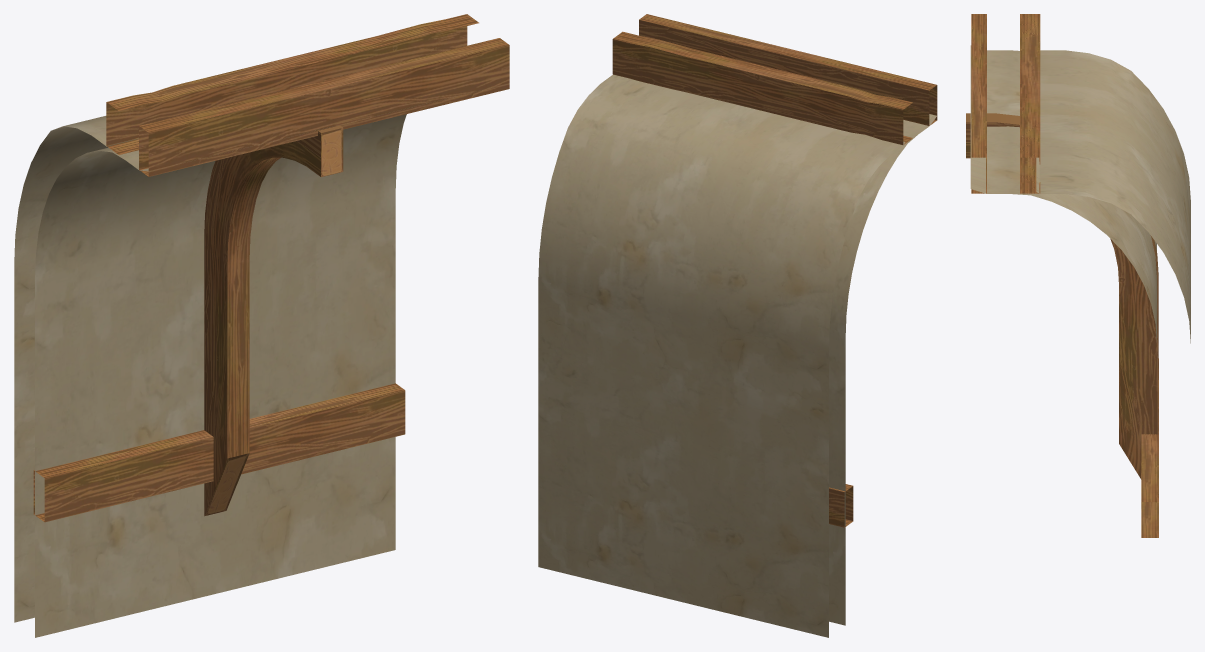
File: Overhang_Plaster_Short.gltf
3 renders of one model, left to right at view 1: azimuth 30°, elevation 25°; view 2: azimuth 150°, elevation 25°; view 3: azimuth 270°, elevation 25°, orthographic. The views are drawn at different scales.
Parts seen in each view (by area): view 1: Overhang_Plaster_Short; view 2: Overhang_Plaster_Short; view 3: Overhang_Plaster_Short.
Part boxes in pixels (x1=…): Overhang_Plaster_Short: x1=14, y1=14, x2=509, y2=637; Overhang_Plaster_Short: x1=538, y1=14, x2=937, y2=637; Overhang_Plaster_Short: x1=966, y1=14, x2=1190, y2=537.
Size of the model in its own units: 2 by 3.12 by 1.32.
2 materials, 2 textured.
